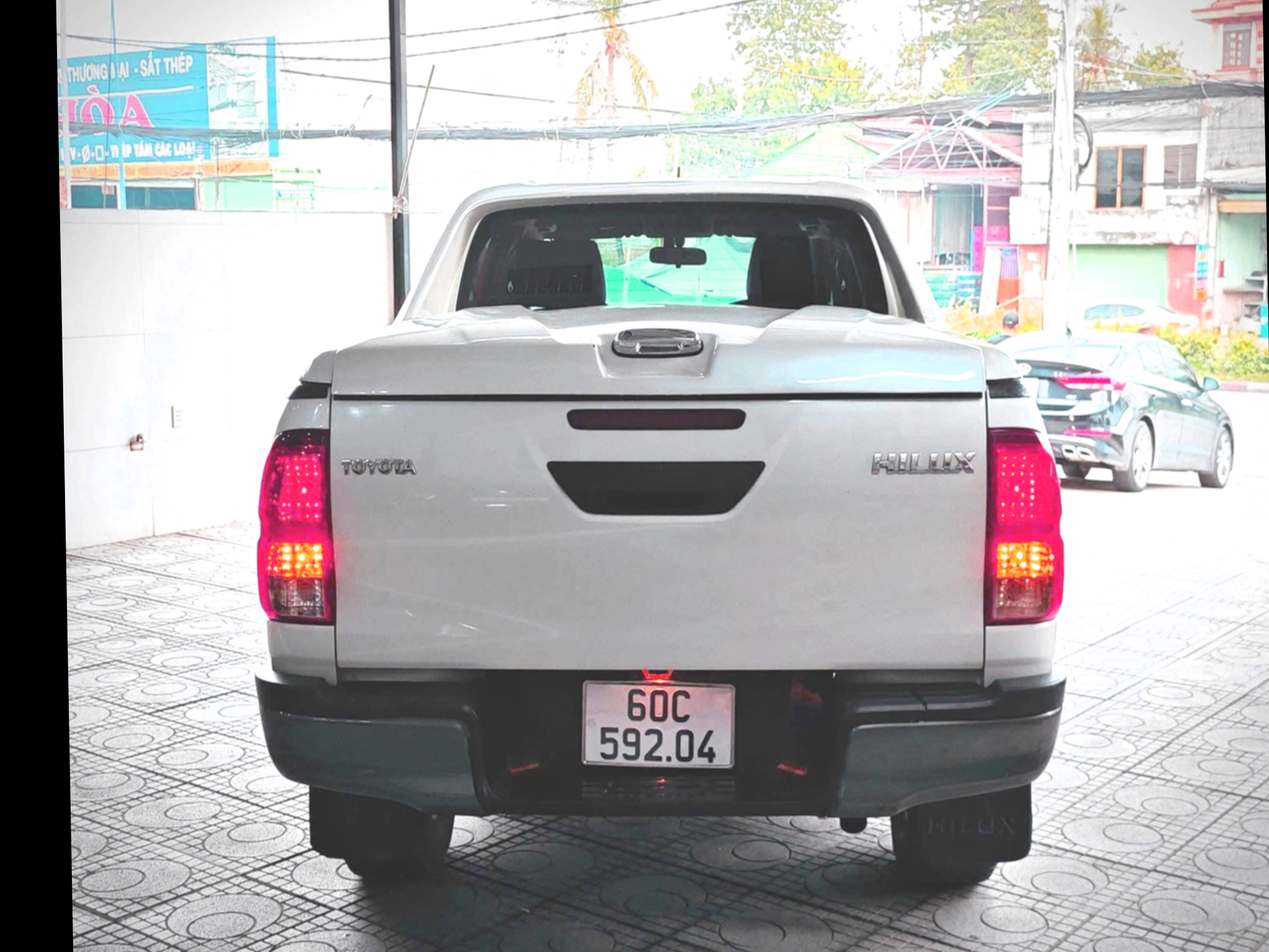Bien-so: (547, 667, 720, 768)
